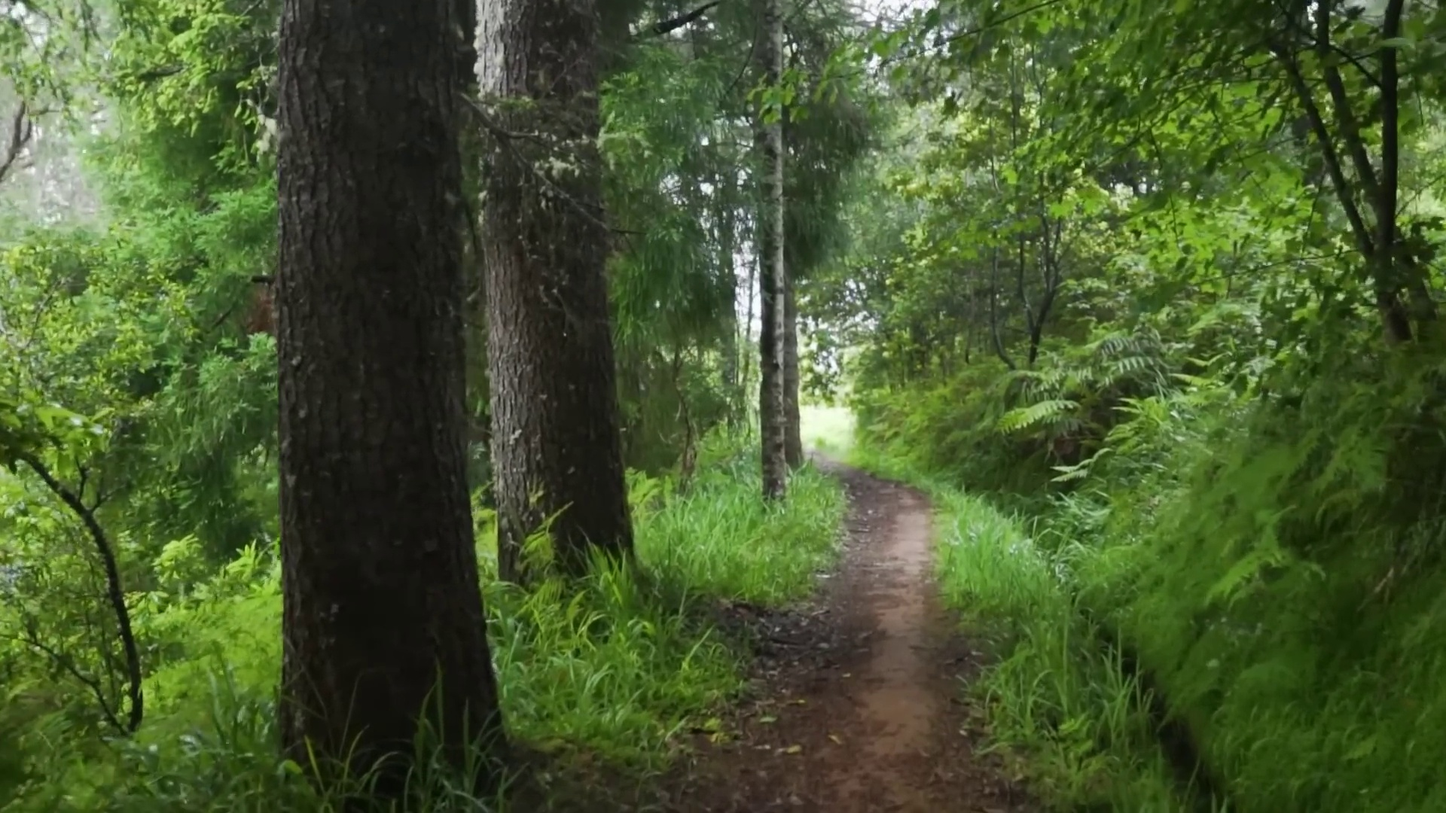tree: (275, 0, 501, 769), (477, 0, 632, 580), (754, 0, 788, 499)
